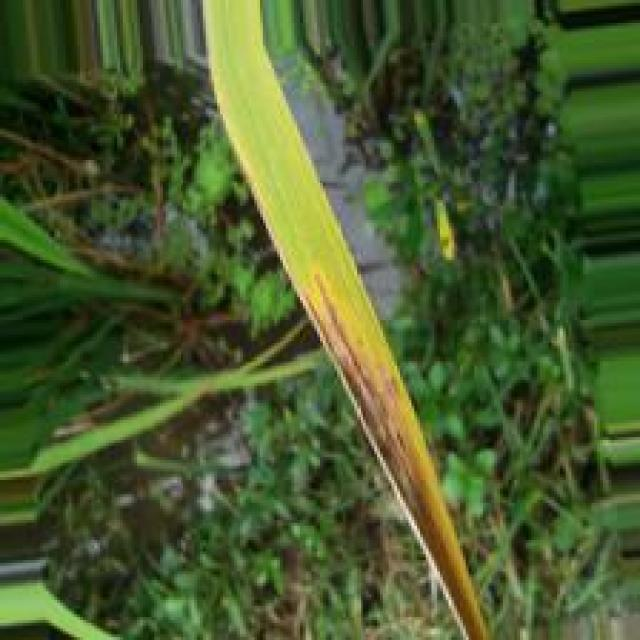Leaf_Scald: (293, 271, 475, 640)
